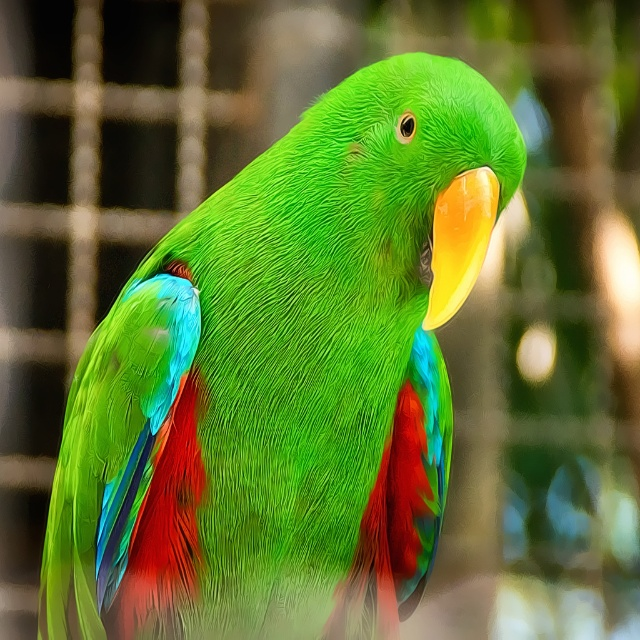Parrot: (37, 52, 527, 640)
